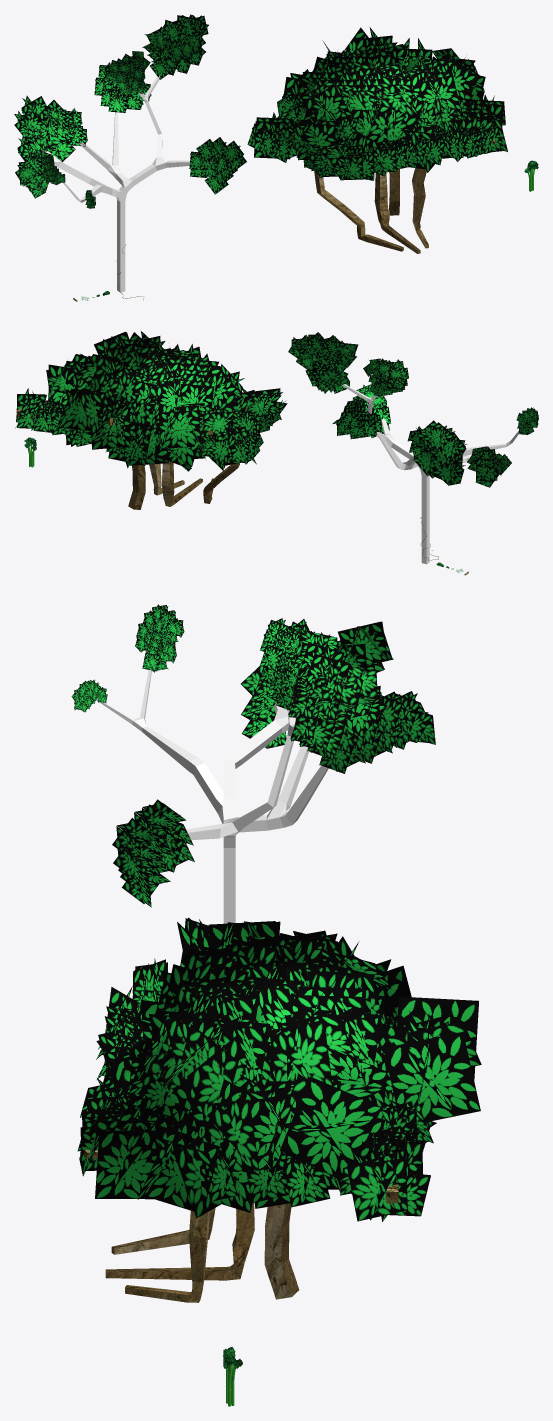
Rendered from env_jungle_tree.glb.
3 renders of one model, top to bottom at view 1: azimuth 30°, elevation 25°; view 2: azimuth 150°, elevation 25°; view 3: azimuth 270°, elevation 25°, orthographic. The views are drawn at different scales.
Visible parts, largest first — view 1: BanyanCanopy_5, KapokCanopy_3, KapokTrunk_4, BanyanTrunk_6; view 2: BanyanCanopy_5, KapokCanopy_3, BanyanTrunk_6, KapokTrunk_4; view 3: BanyanCanopy_5, KapokCanopy_3, KapokTrunk_4, BanyanTrunk_6.
Part boxes in pixels (x1,y1,x2,y2): BanyanCanopy_5: (247,27,507,180); KapokCanopy_3: (14,14,246,208); KapokTrunk_4: (42,76,211,292); BanyanTrunk_6: (272,56,496,253); BanyanCanopy_5: (15,331,287,471); KapokCanopy_3: (288,332,538,487); BanyanTrunk_6: (16,407,247,509); KapokTrunk_4: (342,384,519,564); BanyanCanopy_5: (77,917,481,1221); KapokCanopy_3: (71,604,435,907); KapokTrunk_4: (96,670,328,923); BanyanTrunk_6: (84,1149,398,1302).
Size of the model in its own units: 168 by 75.68 by 60.5.
8 materials, 4 textured.
